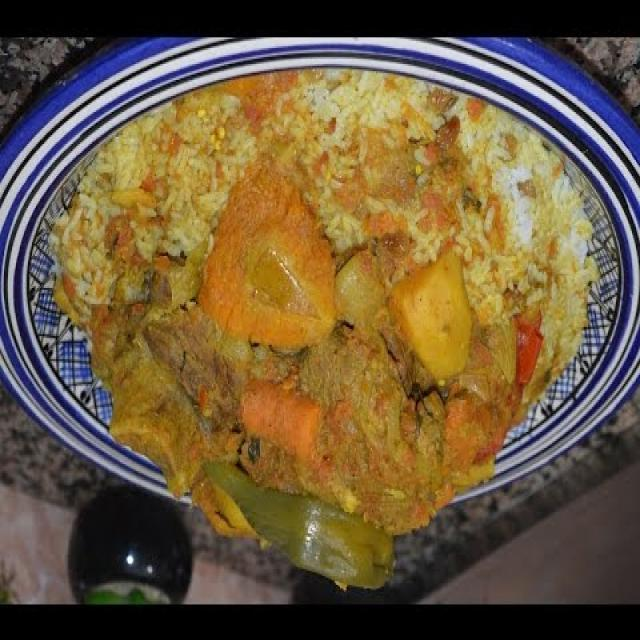Couscous: (5, 37, 640, 594)
